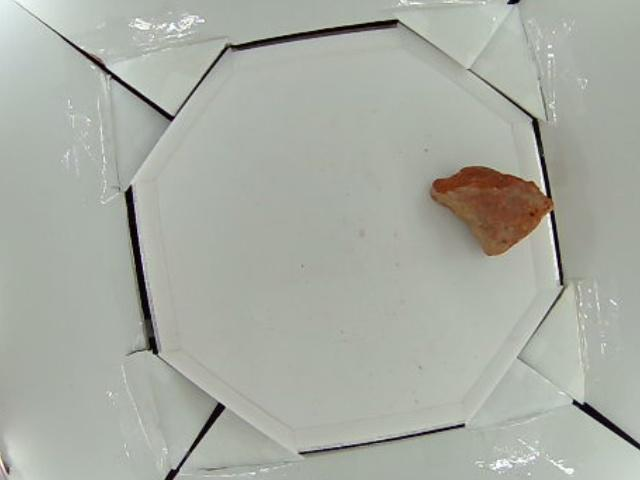Brisk: (432, 164, 554, 255)
